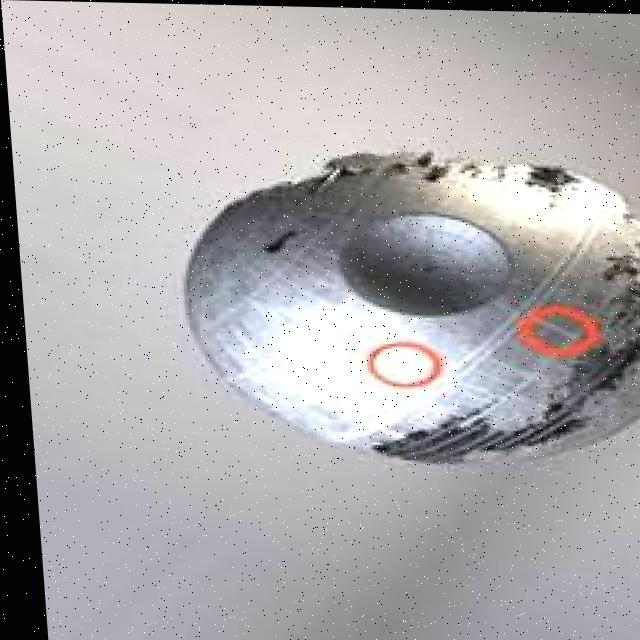deathstar: (172, 146, 640, 467)
